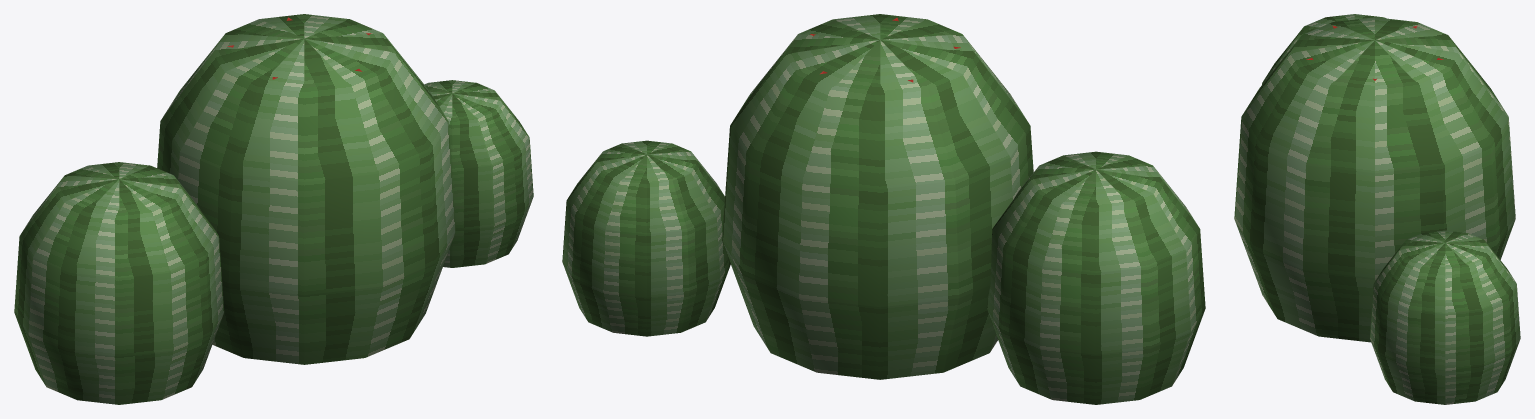
Rendered from barrel_cactus.glb.
The picture shows the model from 3 angles, left to right: view 1: azimuth 30°, elevation 25°; view 2: azimuth 150°, elevation 25°; view 3: azimuth 270°, elevation 25°; orthographic projection. The views are drawn at different scales.
Parts seen in each view (by area): view 1: barrel_cactus; view 2: barrel_cactus; view 3: barrel_cactus.
Part boxes in pixels (bbox=[...]): barrel_cactus: bbox=[14, 14, 533, 404]; barrel_cactus: bbox=[562, 14, 1205, 404]; barrel_cactus: bbox=[1234, 14, 1520, 404].
Bounding box in the file's own units: 1.24 × 0.6 × 0.6103.
Materials: 1 (1 with a texture image).
